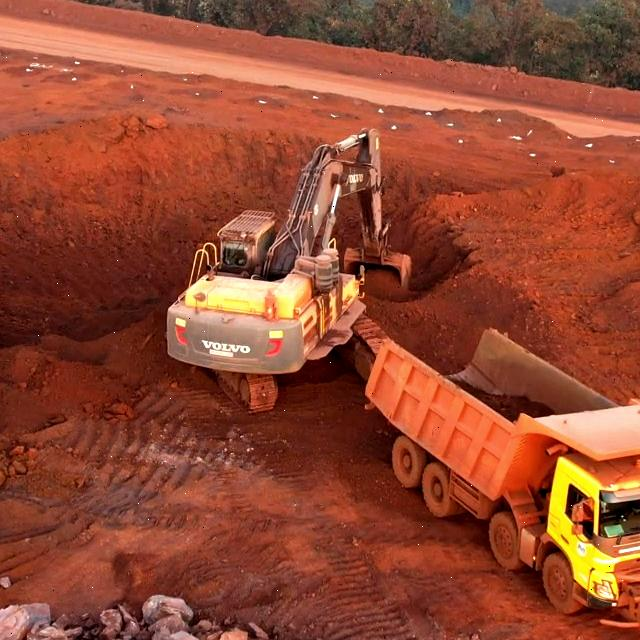Dumper truck: (502, 410, 640, 597)
Excavator: (174, 213, 354, 372)
